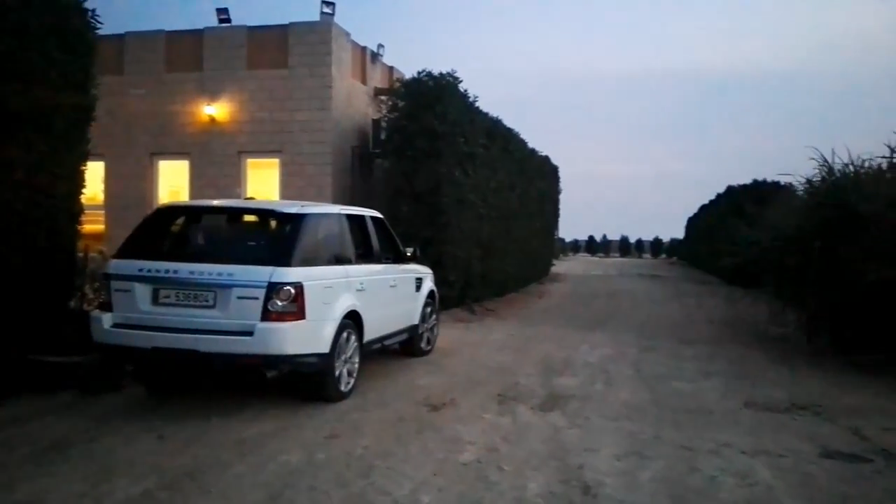car: (85, 193, 440, 402)
